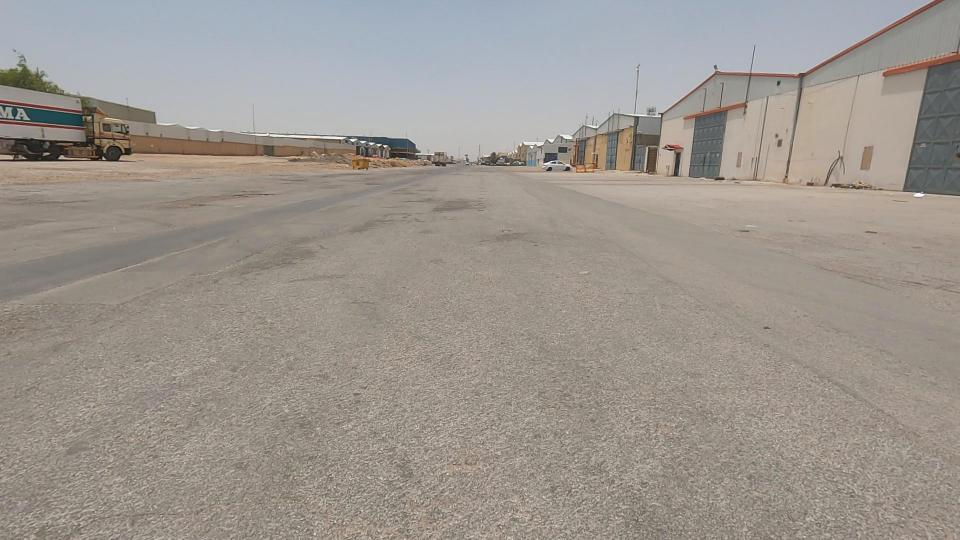POTHOLES: (196, 169, 312, 230), (338, 157, 422, 224)
